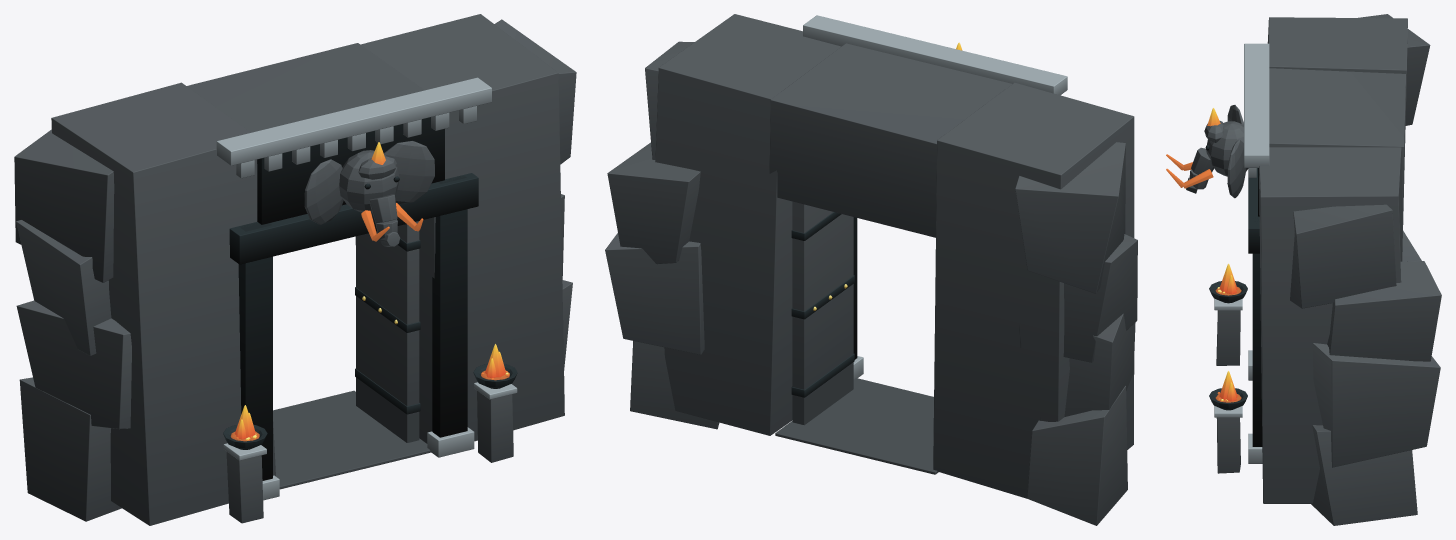
The model's file is forge_gate.glb.
3 views of the same model, side by side, from view 1: azimuth 30°, elevation 25°; view 2: azimuth 150°, elevation 25°; view 3: azimuth 270°, elevation 25° (orthographic). The views are drawn at different scales.
Parts seen in each view (by area): view 1: forge_gate; view 2: forge_gate; view 3: forge_gate.
Part boxes in pixels (left/top/right/bottom): forge_gate: left=14, top=14, right=576, bottom=525; forge_gate: left=605, top=14, right=1137, bottom=525; forge_gate: left=1166, top=14, right=1441, bottom=525.
Bounding box in the file's own units: 18.66 × 12.94 × 9.79.
5 materials, 5 textured.
